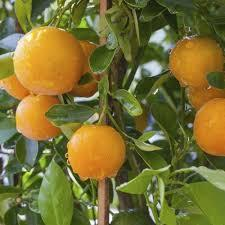orange: (51, 117, 130, 173), (14, 25, 77, 95), (170, 29, 225, 77), (16, 90, 62, 132), (196, 90, 225, 140)
